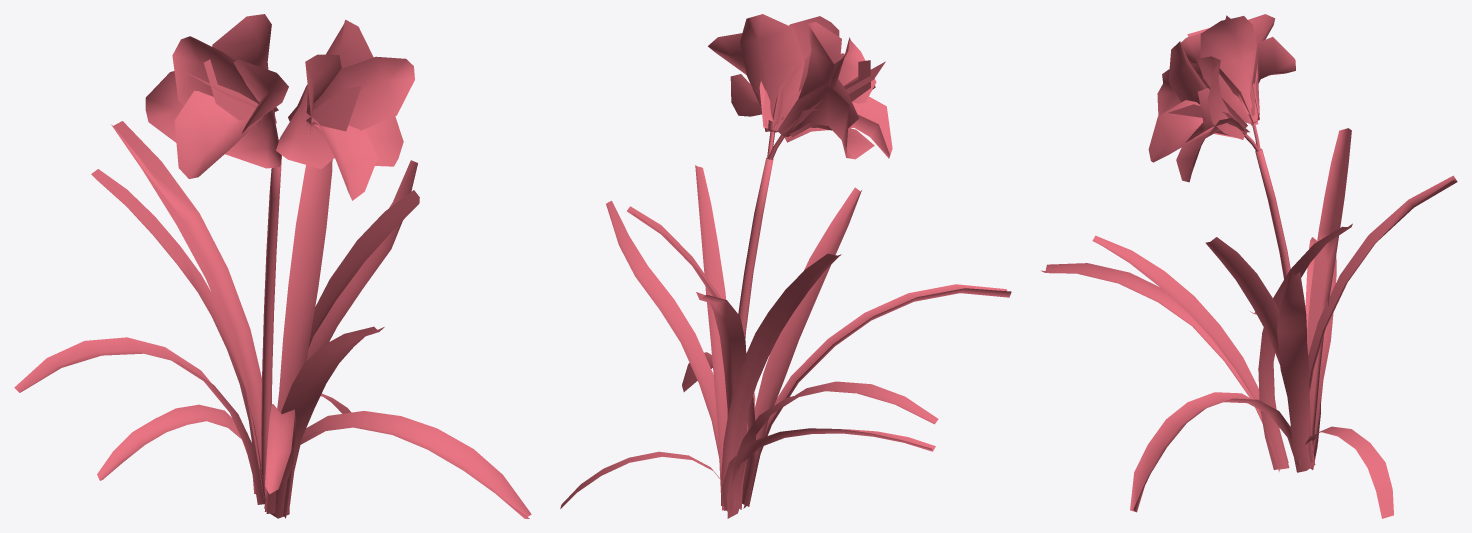
File: SM_Amaryllis_02.glb
3 views of the same model, side by side, from view 1: azimuth 30°, elevation 25°; view 2: azimuth 150°, elevation 25°; view 3: azimuth 270°, elevation 25° (orthographic). The views are drawn at different scales.
Parts seen in each view (by area): view 1: SM_Amaryllis_02; view 2: SM_Amaryllis_02; view 3: SM_Amaryllis_02.
Boxes of the visible parts, x1,y1,x2,y2 form: SM_Amaryllis_02: (14,14,531,518); SM_Amaryllis_02: (560,14,1011,518); SM_Amaryllis_02: (1041,14,1457,518).
Size of what is drawn, in the model's own units: 16.82 by 21.42 by 18.6.
